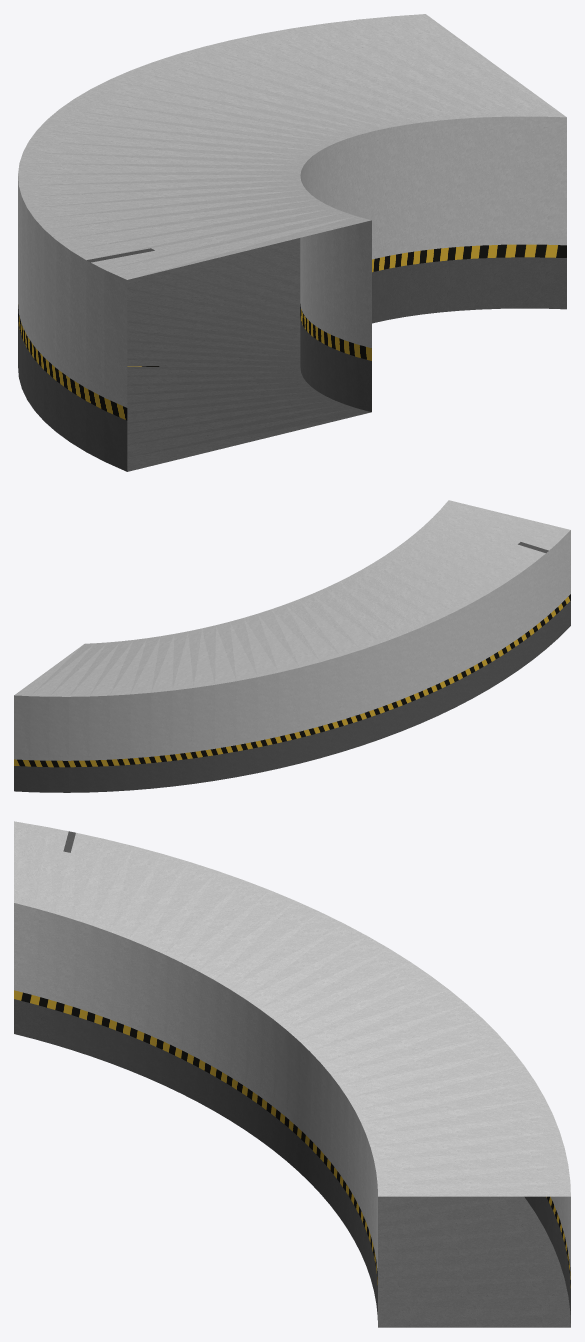
Rendered from Vertical_corner90.FBX.
3 renders of one model, top to bottom at view 1: azimuth 30°, elevation 25°; view 2: azimuth 150°, elevation 25°; view 3: azimuth 270°, elevation 25°, orthographic. The views are drawn at different scales.
Parts seen in each view (by area): view 1: Vertical_mCorner90; view 2: Vertical_mCorner90; view 3: Vertical_mCorner90.
Boxes of the visible parts, bbox=[...] form: Vertical_mCorner90: bbox=[18, 14, 566, 471]; Vertical_mCorner90: bbox=[14, 500, 570, 792]; Vertical_mCorner90: bbox=[14, 821, 570, 1327].
Bounding box in the file's own units: 11549 × 6200 × 11549.
